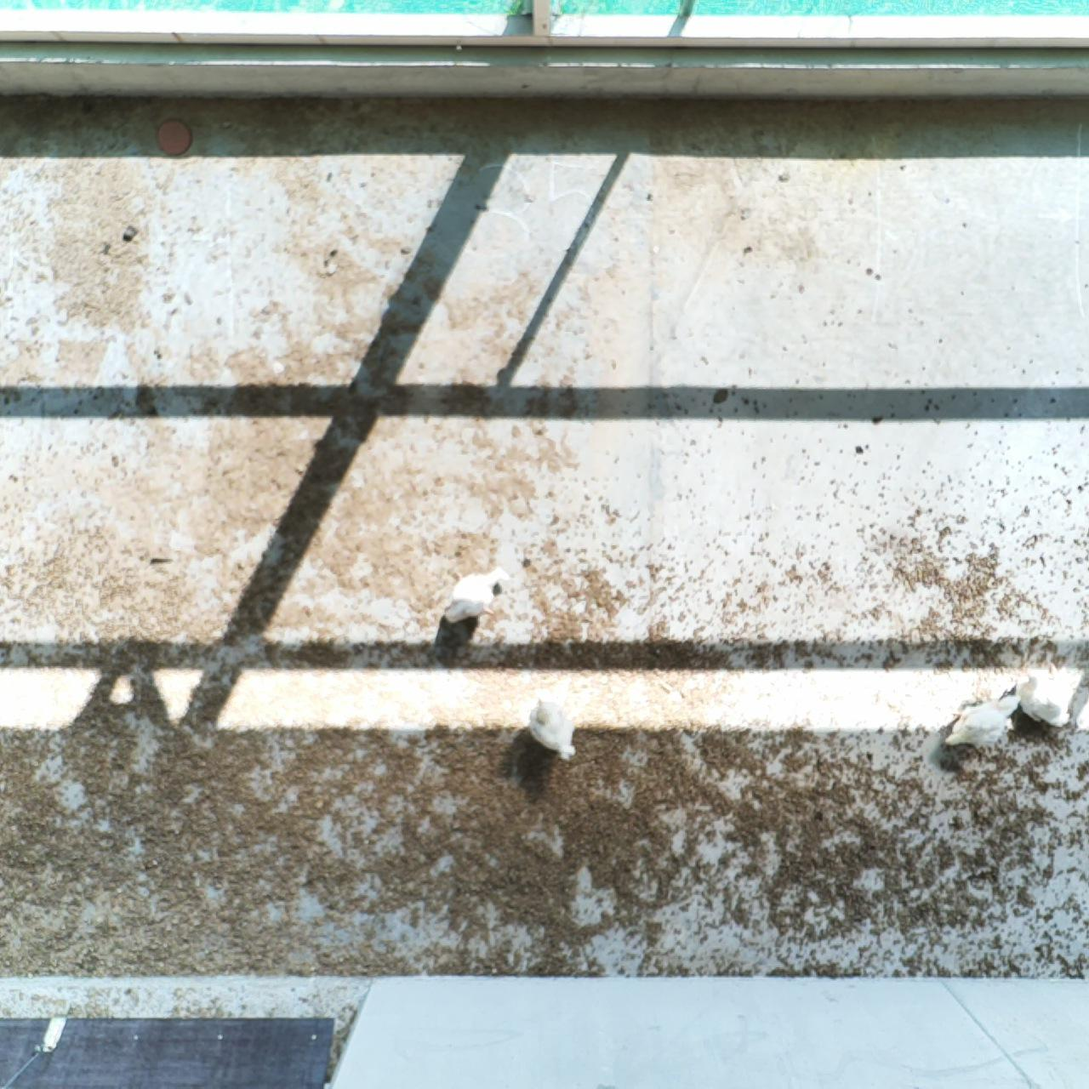chicken: (1013, 649, 1085, 730), (940, 691, 1023, 755), (439, 564, 514, 625), (523, 687, 581, 762)
